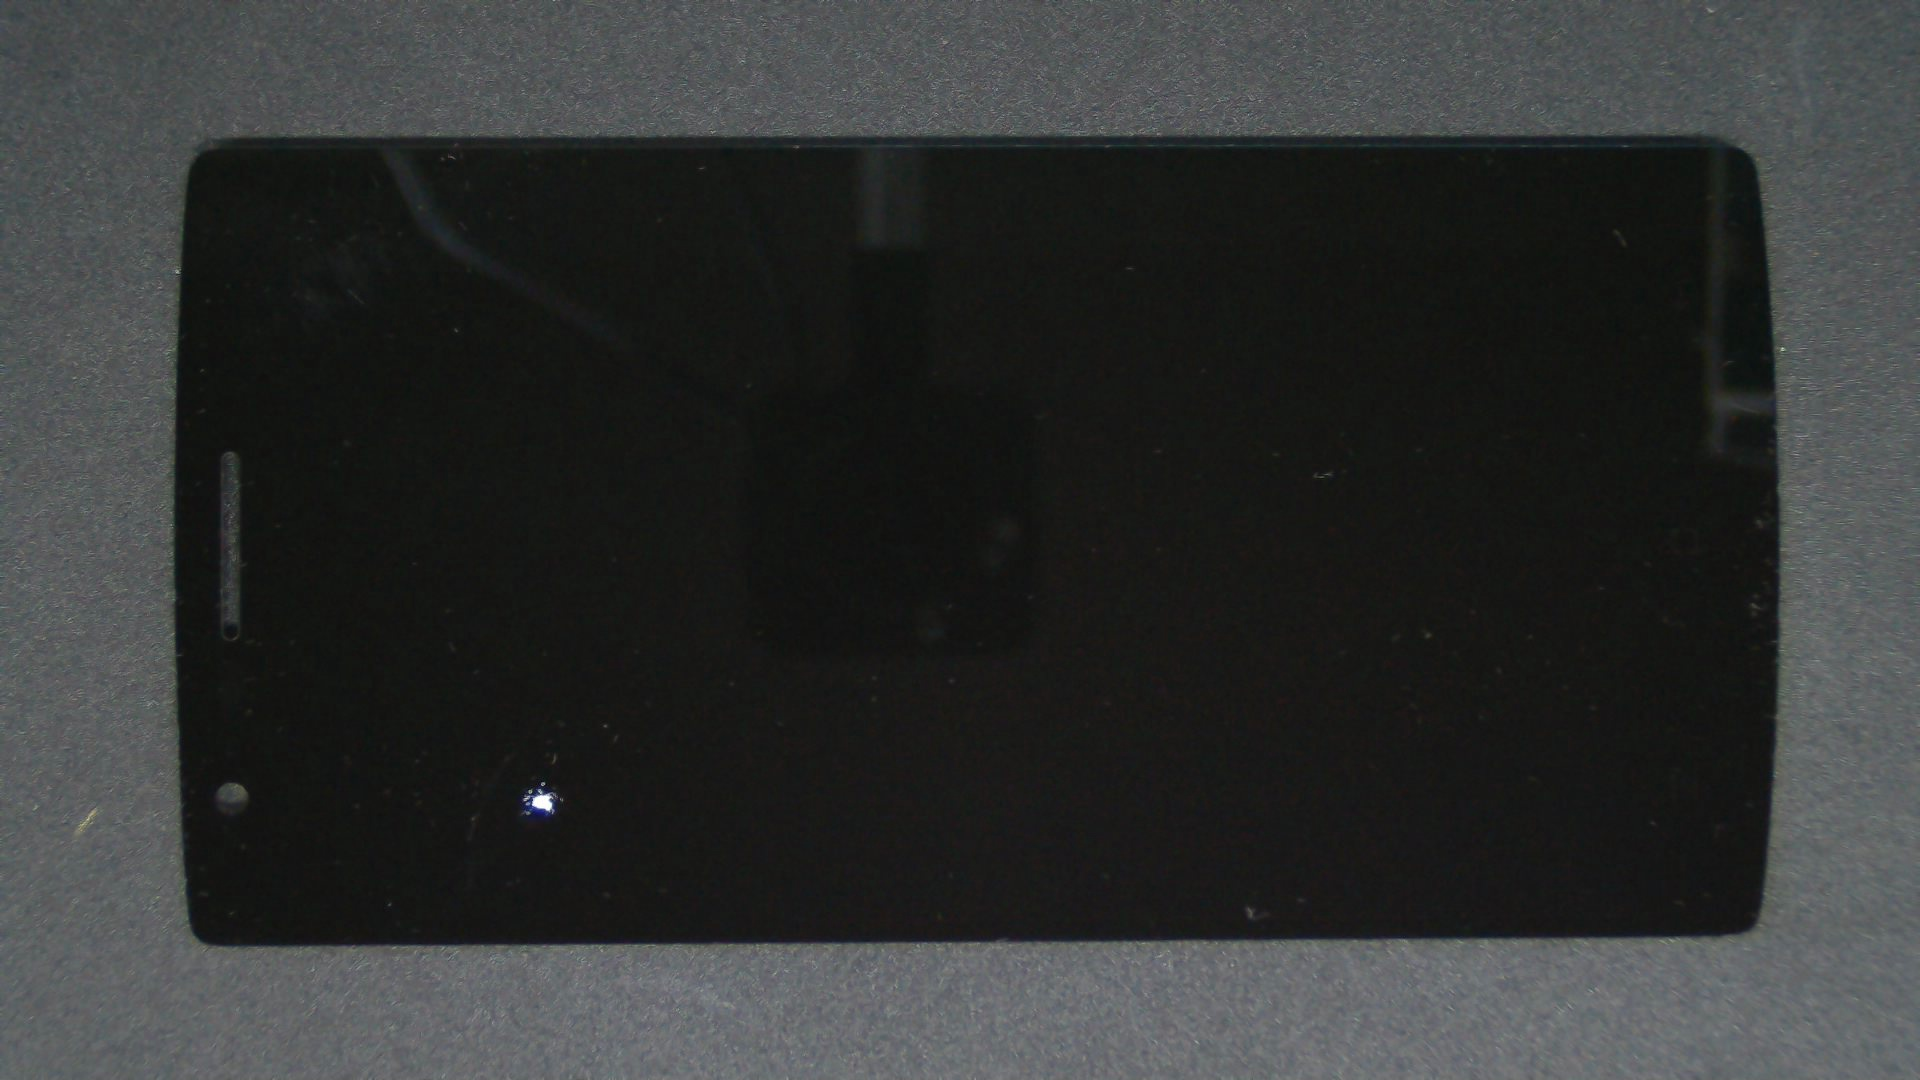oil: (273, 389, 815, 1080)
